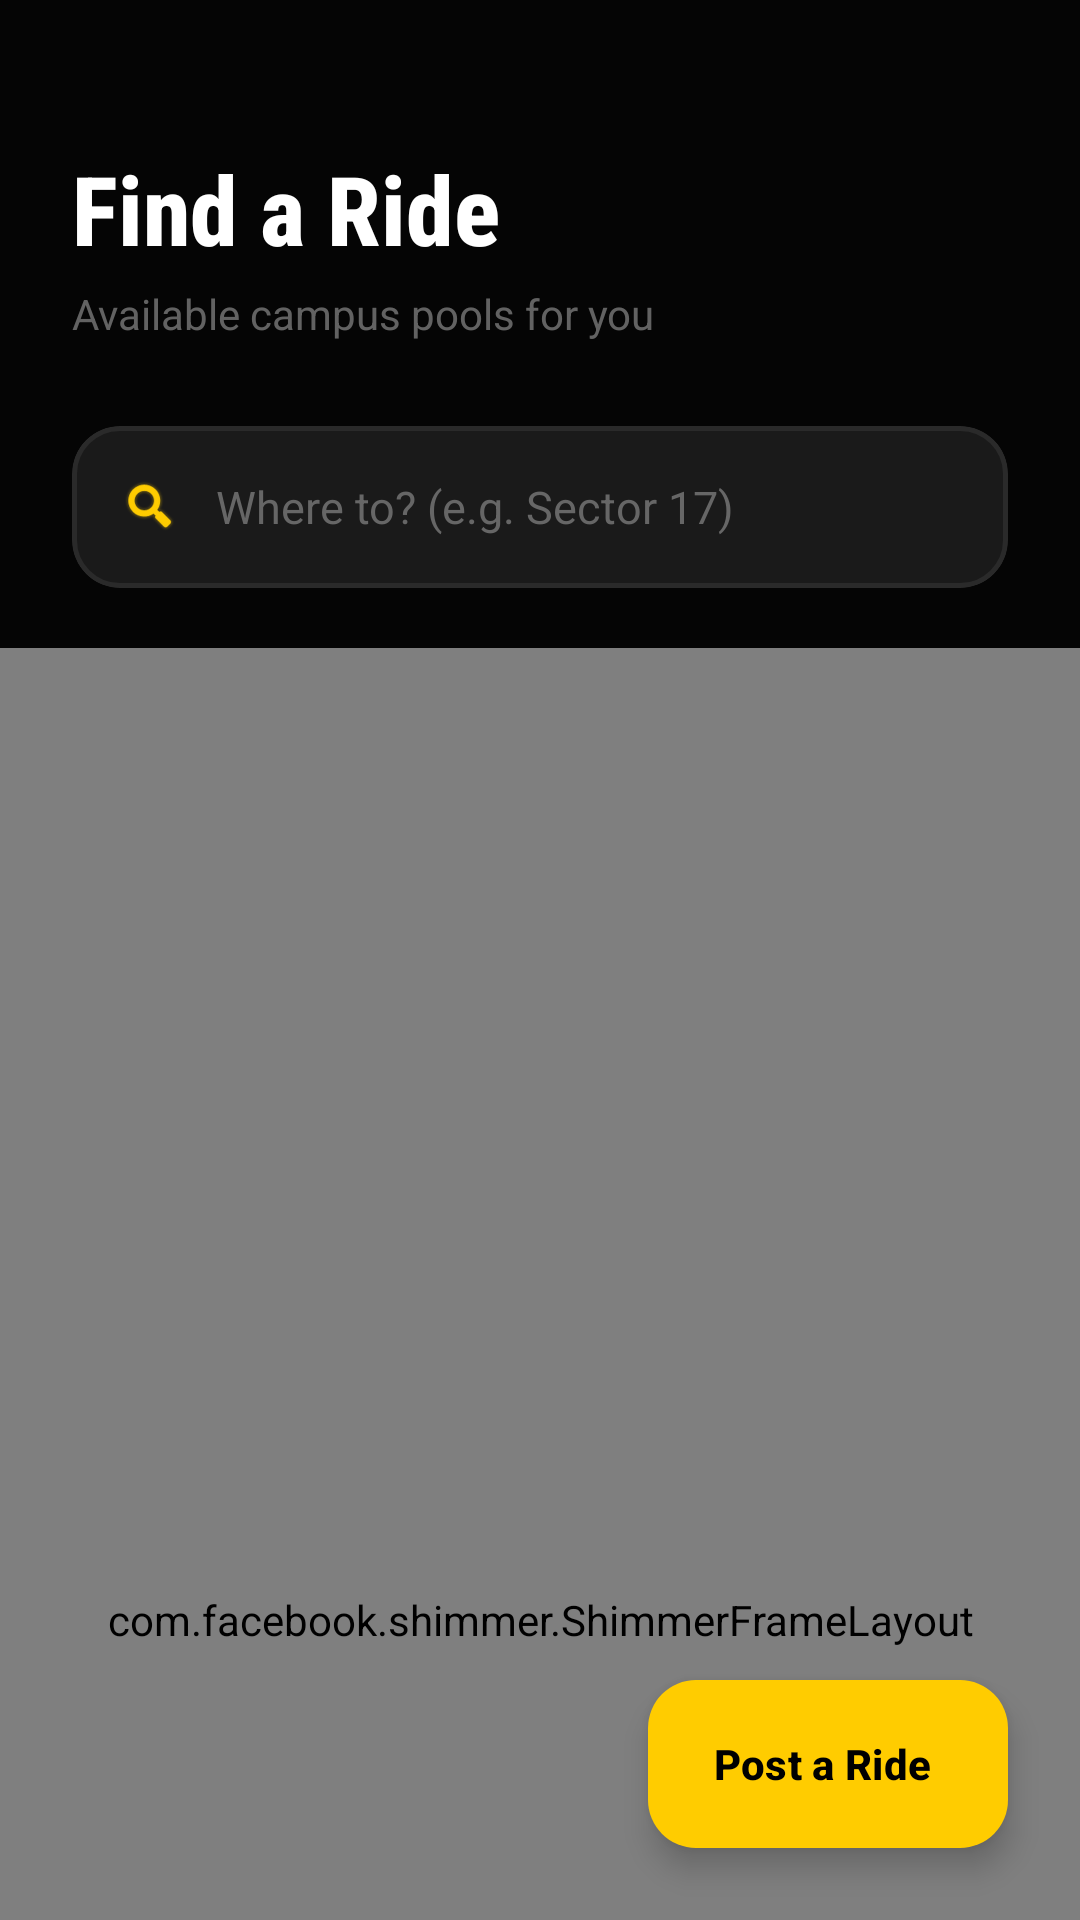

Named icons in this screenshot (1080×1920) and their bounding boxes, [x1, y1, x2, y2]:
search category: [127, 483, 172, 529]
